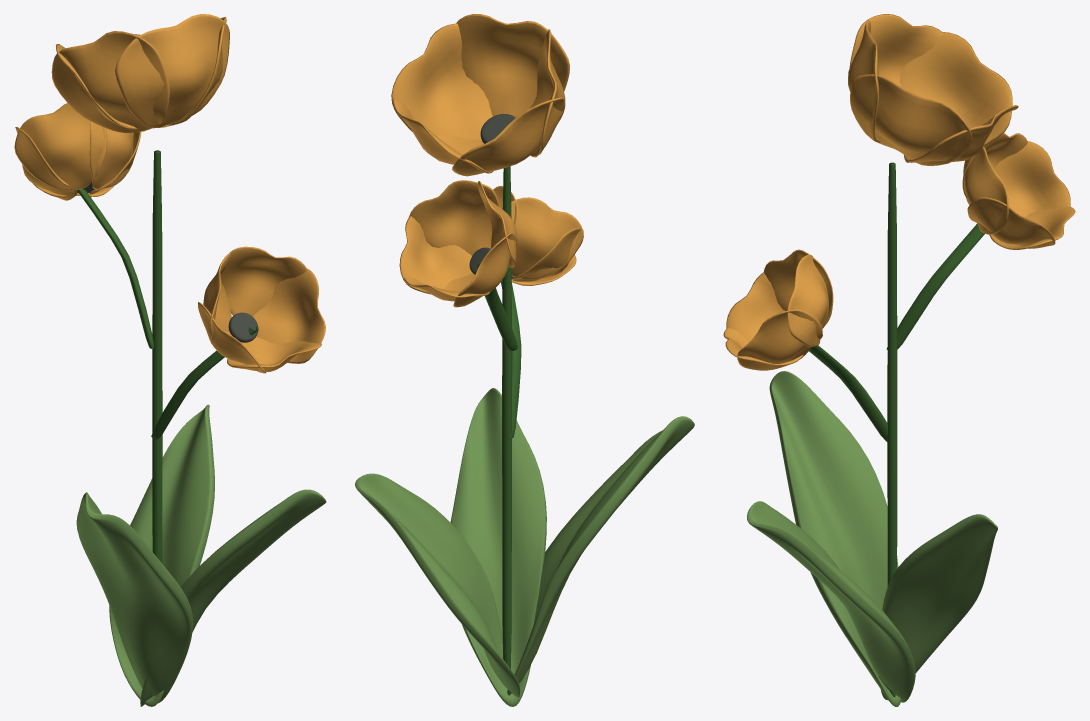
Rendered from flower11.fbx.
The picture shows the model from 3 angles, left to right: view 1: azimuth 30°, elevation 25°; view 2: azimuth 150°, elevation 25°; view 3: azimuth 270°, elevation 25°; orthographic projection. The views are drawn at different scales.
Parts seen in each view (by area): view 1: F6_group42_pPlane20, F6_group48_leaf4, pCylinder19; view 2: F6_group42_pPlane20, F6_group48_leaf4, pCylinder19; view 3: F6_group42_pPlane20, F6_group48_leaf4, pCylinder19.
Boxes of the visible parts, left/top/right/bottom form: F6_group42_pPlane20: left=14, top=14, right=325, bottom=439; F6_group48_leaf4: left=76, top=404, right=326, bottom=706; pCylinder19: left=152, top=150, right=162, bottom=563; F6_group42_pPlane20: left=391, top=14, right=583, bottom=439; F6_group48_leaf4: left=355, top=388, right=694, bottom=706; pCylinder19: left=502, top=166, right=511, bottom=668; F6_group42_pPlane20: left=723, top=14, right=1075, bottom=441; F6_group48_leaf4: left=747, top=371, right=997, bottom=706; pCylinder19: left=887, top=162, right=897, bottom=697.
Bounding box in the file's own units: 11.03 × 30.97 × 14.6.
